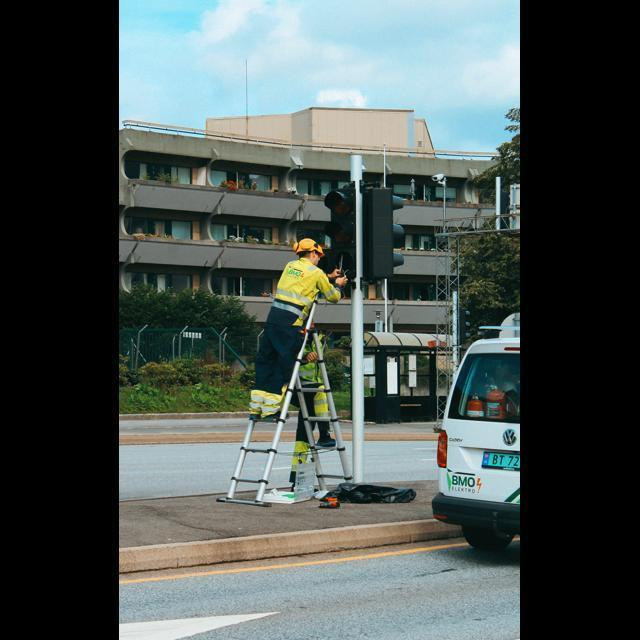helmet: (286, 232, 328, 261)
